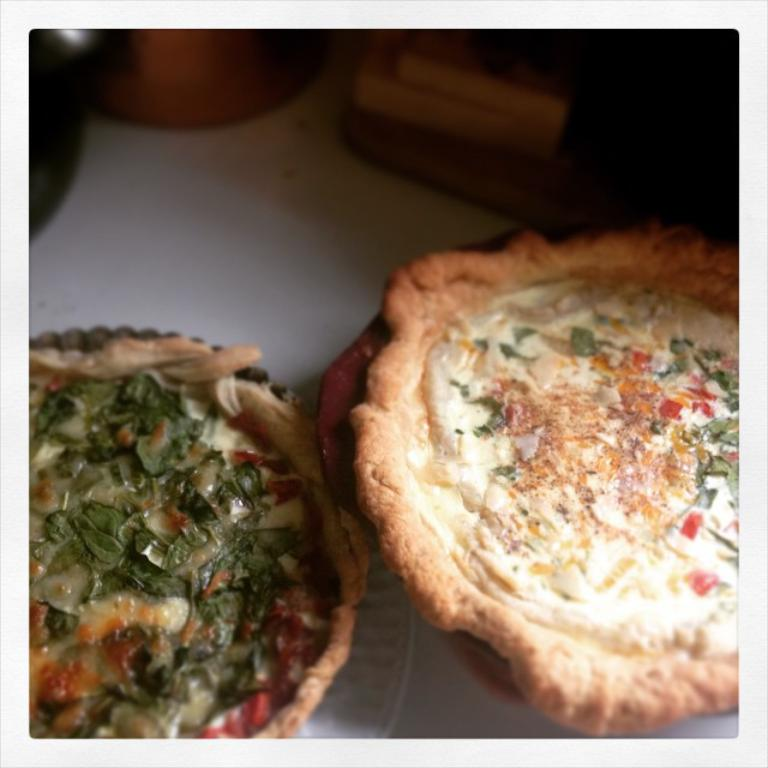Pizza: (357, 225, 741, 735), (24, 337, 343, 762)
